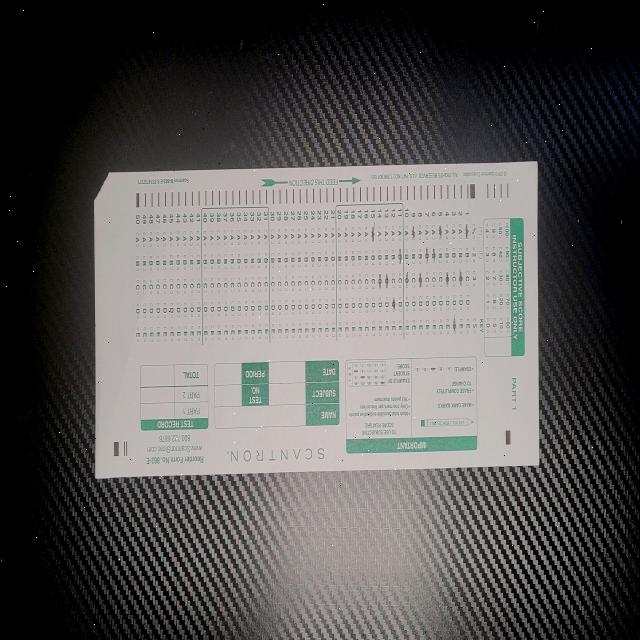scantron: (93, 163, 539, 479)
